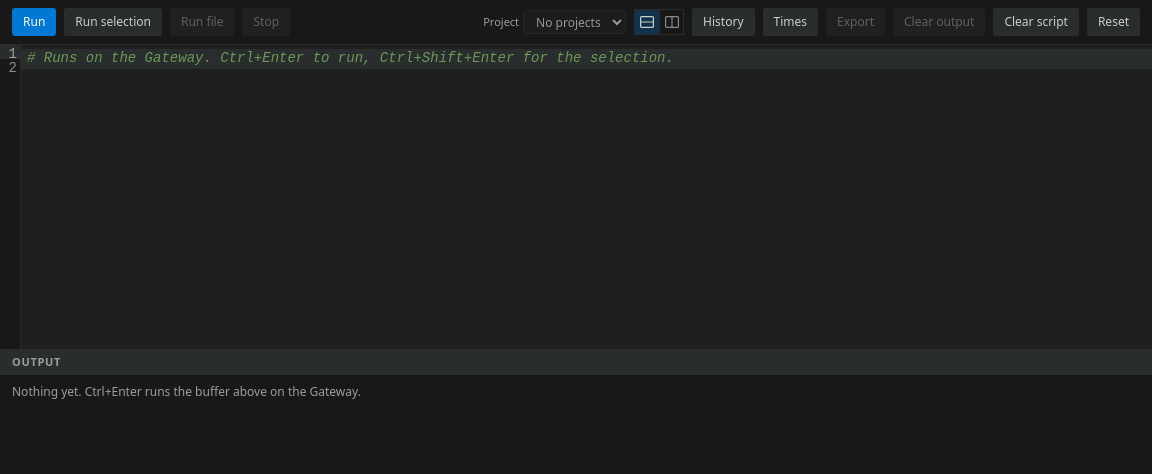
Test: ScriptConsole › separates runs with a divider and closes each with its verdict
This screenshot has width=1152, height=474.
Click the button "Run" at point(34, 22), box [12,8,56,36]
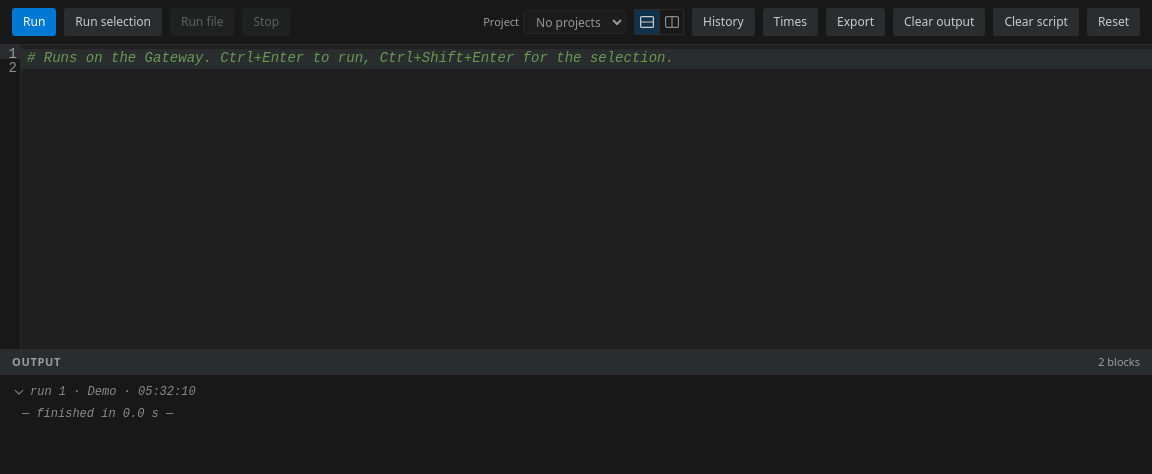
Now the element labelled "Output" reads "Output 2 blocks run 1 · Demo · 05:32:10 — finished in 0.0 s —", box [12,383,1140,401]
Click the button "Run" at point(34, 22), box [12,8,56,36]
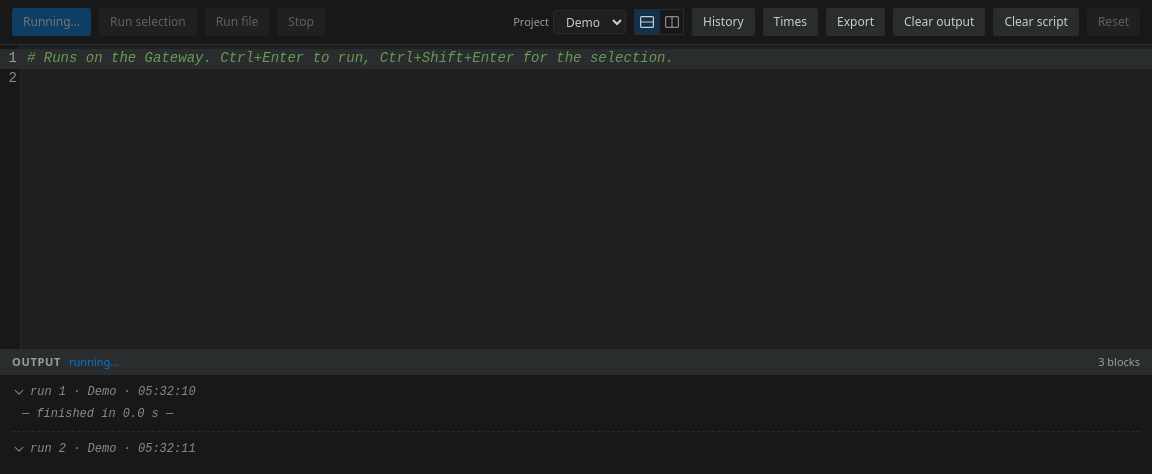
Now the element labelled "Output" shows "run 2", box [12,440,1140,458]
Now the number of elements with class "console-run" is 2, box [12,383,1140,423]; [12,431,1140,458]
